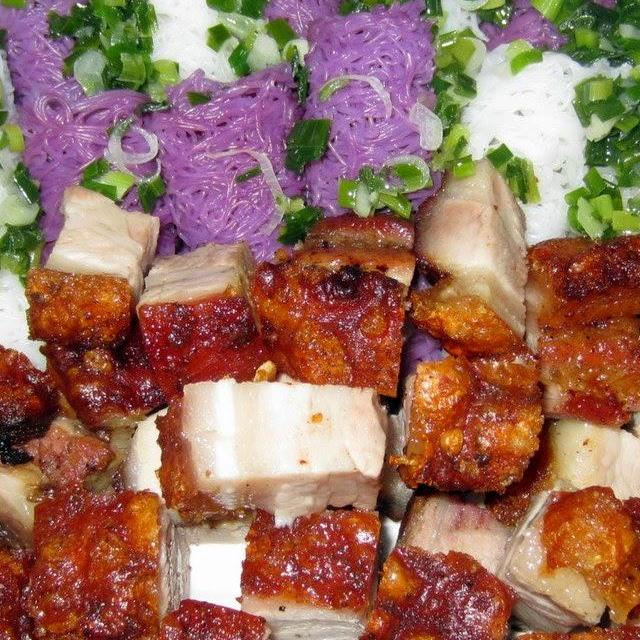banh hoi: (138, 51, 320, 286), (453, 34, 640, 253), (290, 0, 456, 246), (0, 59, 183, 271), (0, 39, 65, 395), (0, 0, 160, 130), (101, 0, 270, 109), (234, 0, 373, 95), (342, 0, 488, 90), (468, 0, 640, 74), (589, 34, 640, 241)
banh hoi heo quay: (0, 0, 640, 640)
thit heo quay: (144, 376, 403, 537), (228, 203, 427, 406), (398, 144, 546, 370), (371, 339, 556, 509), (13, 480, 202, 640), (508, 216, 640, 439), (0, 383, 149, 574), (479, 471, 640, 640), (17, 180, 167, 360), (123, 238, 280, 409), (232, 486, 389, 640), (338, 537, 524, 640), (0, 338, 71, 491), (137, 594, 295, 640)
